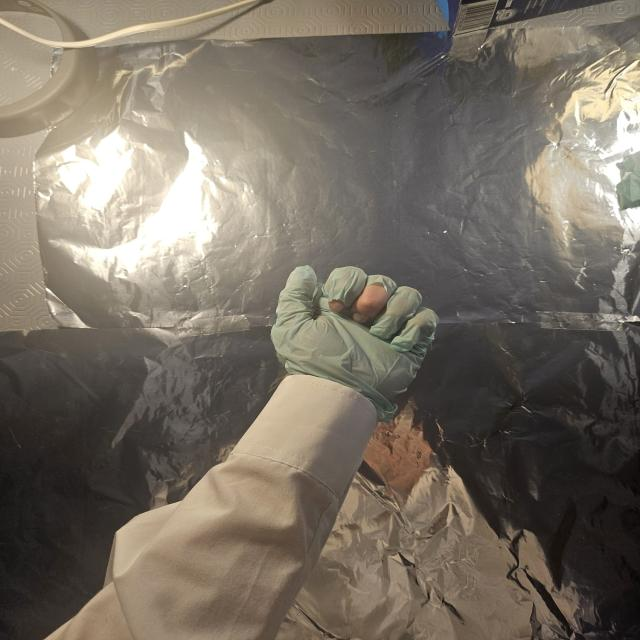gloves_damaged: (268, 264, 442, 428)
